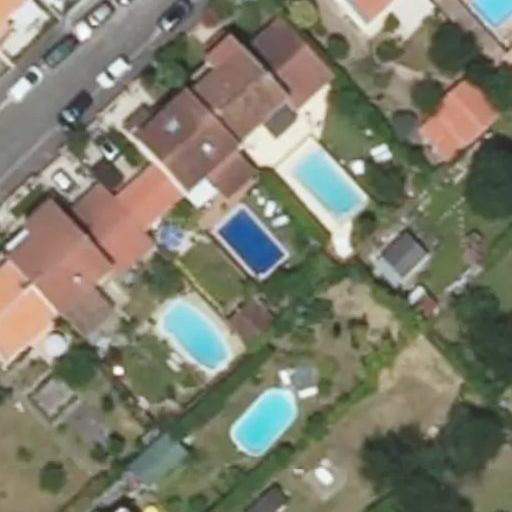pool: (221, 232, 290, 251)
